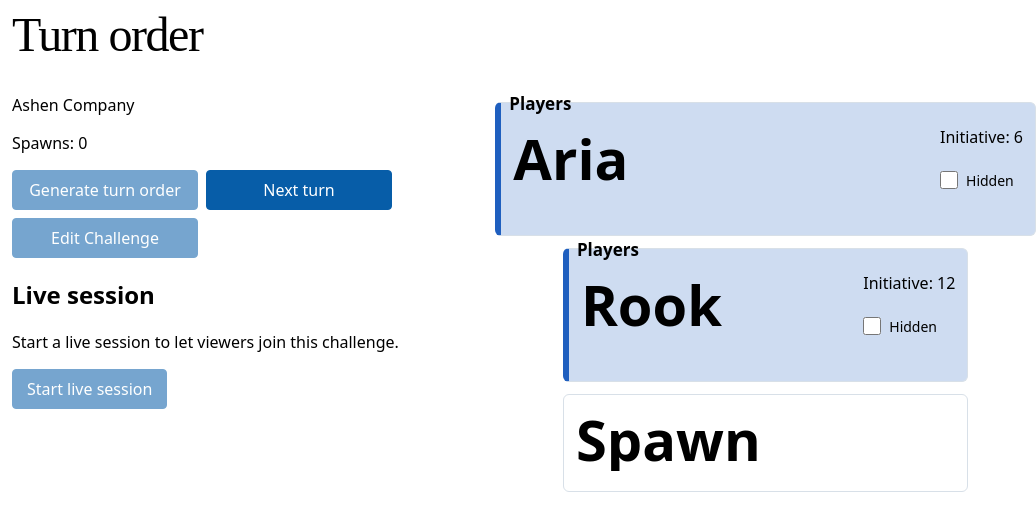
Test: turn-order run route › starts a live session and stores its reconnect credential separately
Click the button "Start live session" at (90, 389), box left=12, top=369, right=167, bottom=409
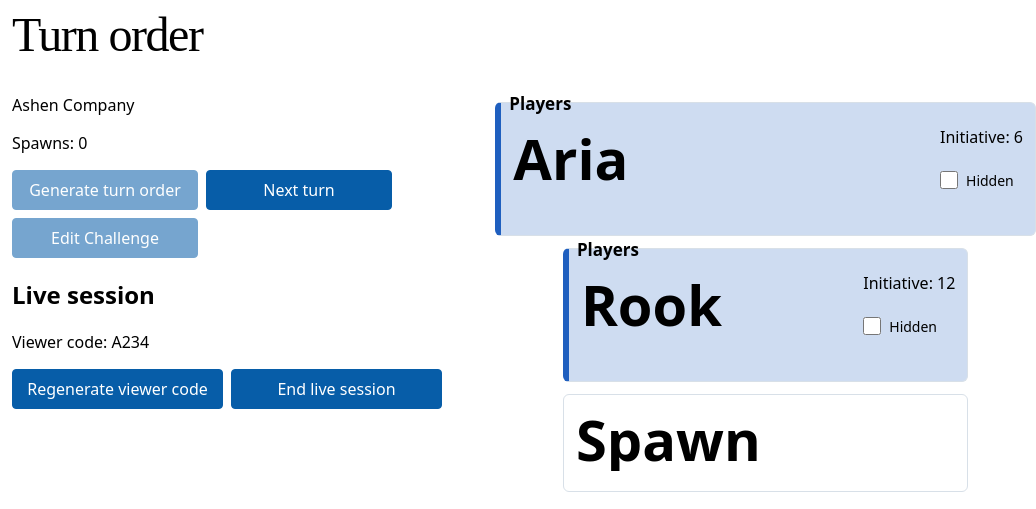
Now the text "A234" is shown, box left=112, top=331, right=149, bottom=353
